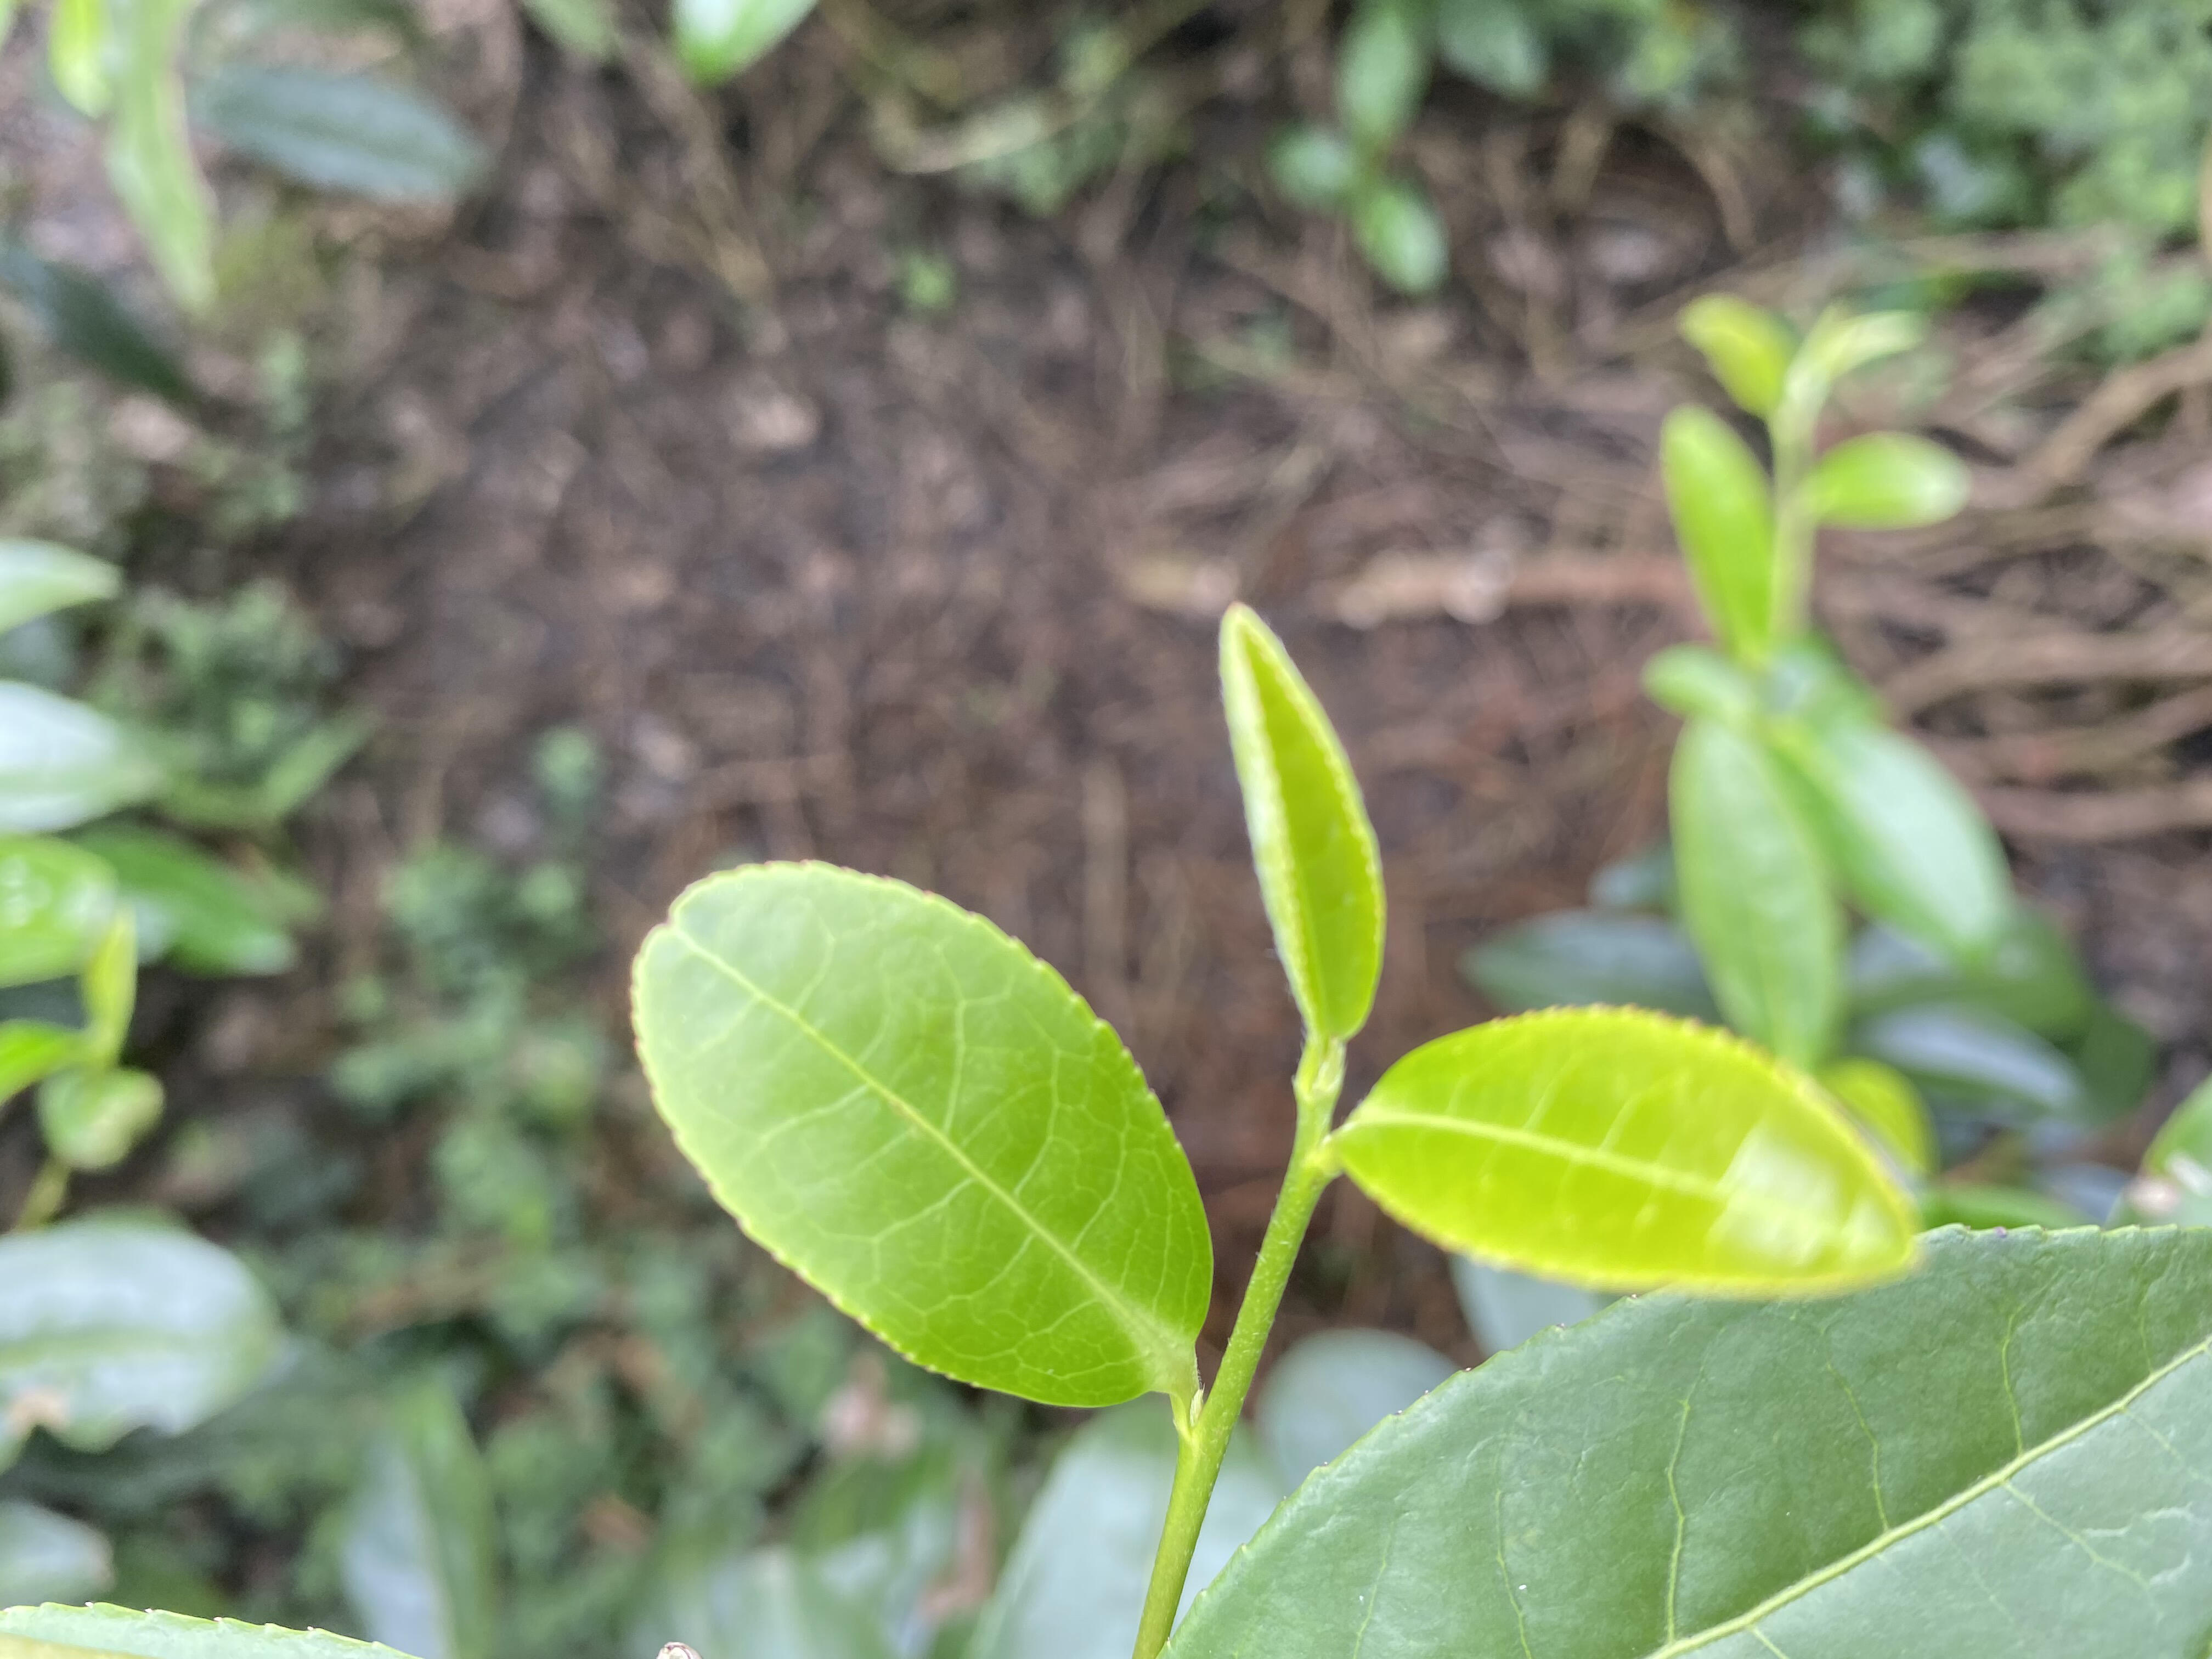healthy: (629, 857, 1216, 1406), (1345, 1002, 1925, 1298), (1217, 603, 1383, 1033)
